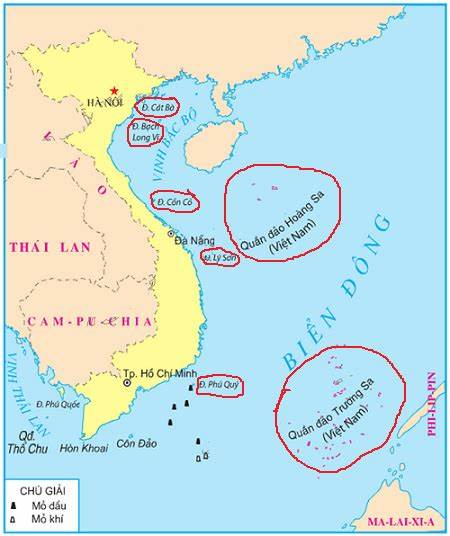Island: (277, 351, 384, 460), (241, 173, 328, 253)
